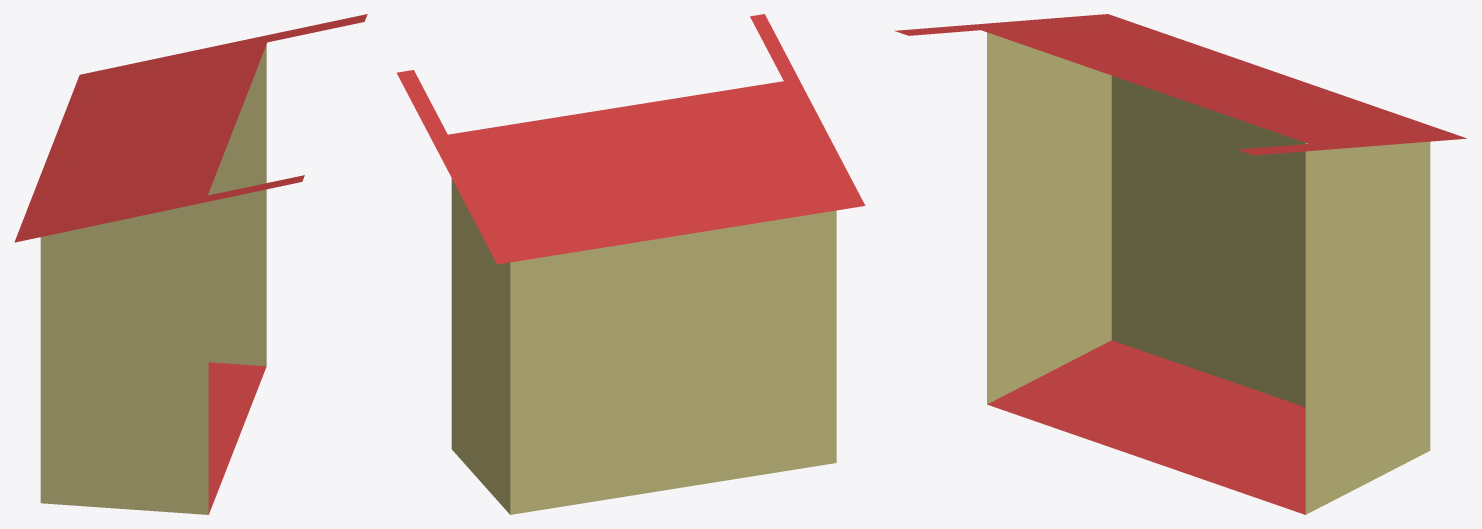
The picture shows the model from 3 angles, left to right: view 1: azimuth 30°, elevation 25°; view 2: azimuth 150°, elevation 25°; view 3: azimuth 270°, elevation 25°; orthographic projection. The views are drawn at different scales.
Bounding box in the file's own units: 10.45 × 10.79 × 8.38.
